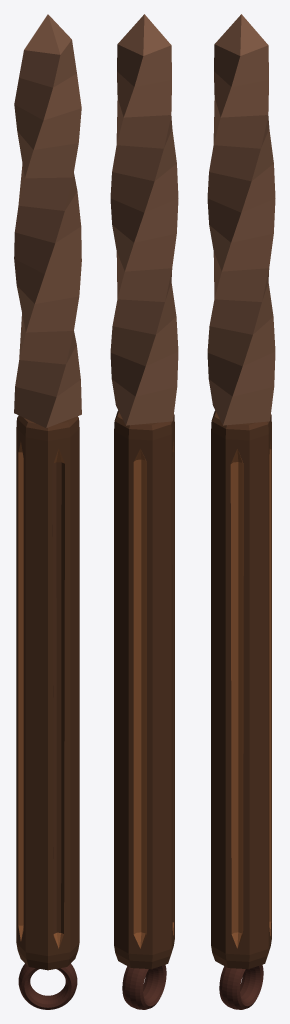
The model's file is Wand 551.glb.
3 views of the same model, side by side, from view 1: azimuth 90°, elevation 25°; view 2: azimuth 150°, elevation 25°; view 3: azimuth 330°, elevation 25° (orthographic).
Visible parts, largest first — view 1: GeneratedWand; view 2: GeneratedWand; view 3: GeneratedWand.
Boxes of the visible parts, x1,y1,x2,y2 form: GeneratedWand: (14,14,81,1009); GeneratedWand: (110,14,178,1009); GeneratedWand: (207,14,275,1009).
Size of the model in its own units: 0.0311 by 0.5026 by 0.0311.
